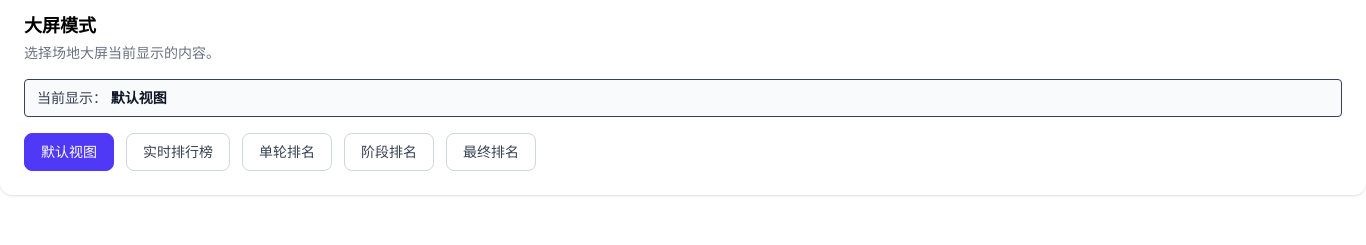
Test case: DisplayModeControls — a failed switch does not lie › shows the generic failure message when the response has no message
Click the button "实时排行榜" at (178, 152), box x1=126 y1=133 x2=230 y2=171
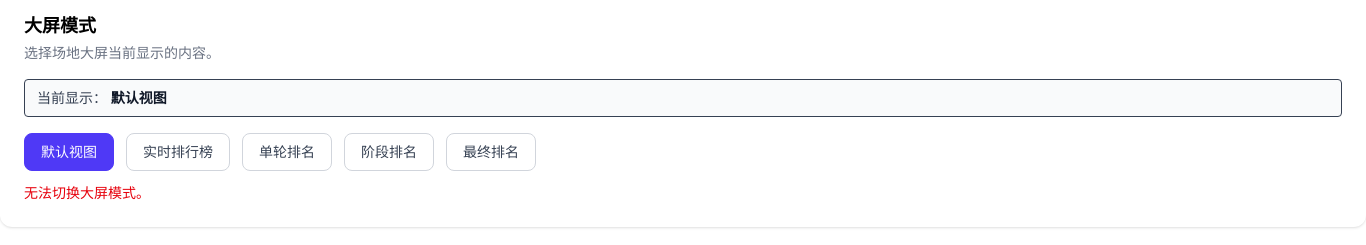
Now the text "无法切换大屏模式。" is shown, box x1=24 y1=183 x2=150 y2=202
